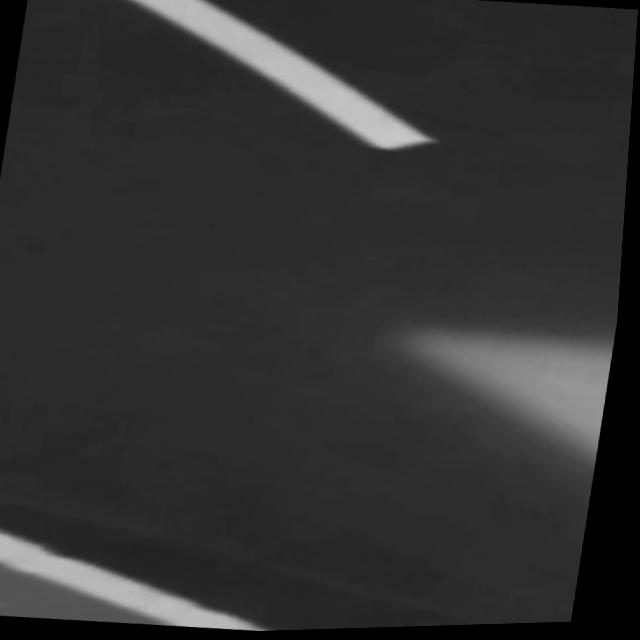center: (132, 0, 435, 148)
right: (0, 530, 272, 631)
